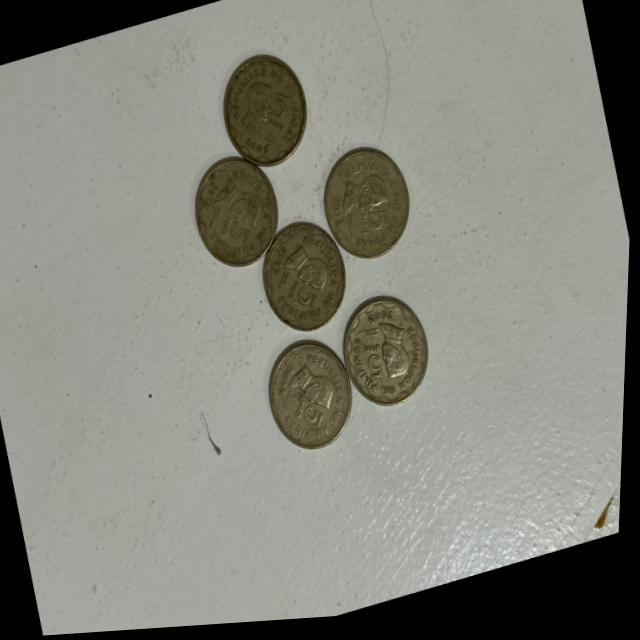5_Old_Front: (286, 393, 333, 444), (357, 340, 396, 399), (218, 208, 262, 256), (282, 275, 324, 322), (260, 92, 298, 143), (354, 209, 397, 247)
